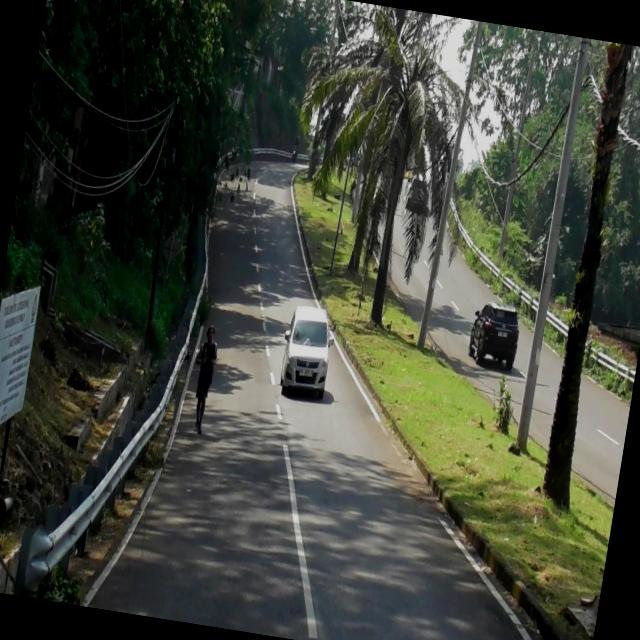motorcycle: (291, 145, 298, 162)
person: (294, 136, 300, 148)
rider_region: (290, 133, 301, 163)
